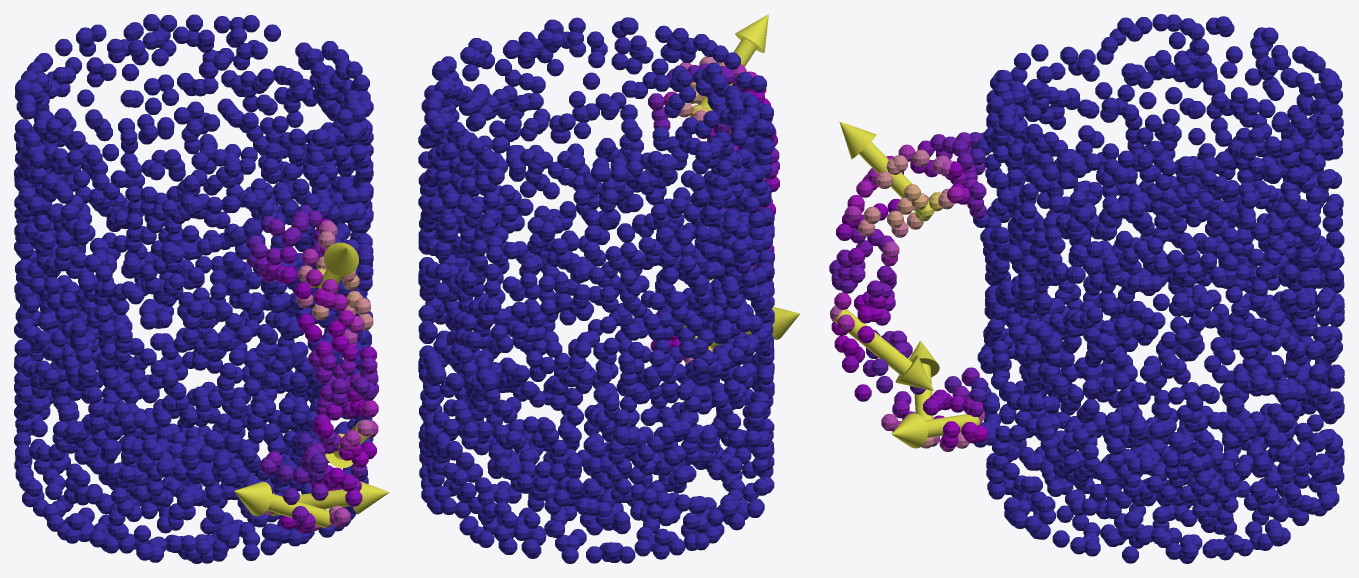
The model's file is pred_heatmap_0.glb.
3 views of the same model, side by side, from view 1: azimuth 30°, elevation 25°; view 2: azimuth 150°, elevation 25°; view 3: azimuth 270°, elevation 25° (orthographic).
Parts seen in each view (by area): view 1: world; view 2: world; view 3: world.
Boxes of the visible parts, bbox=[...] form: world: bbox=[14, 14, 389, 563]; world: bbox=[418, 14, 799, 563]; world: bbox=[829, 14, 1344, 563].
Bounding box in the file's own units: 1.21 × 1.55 × 1.74.
